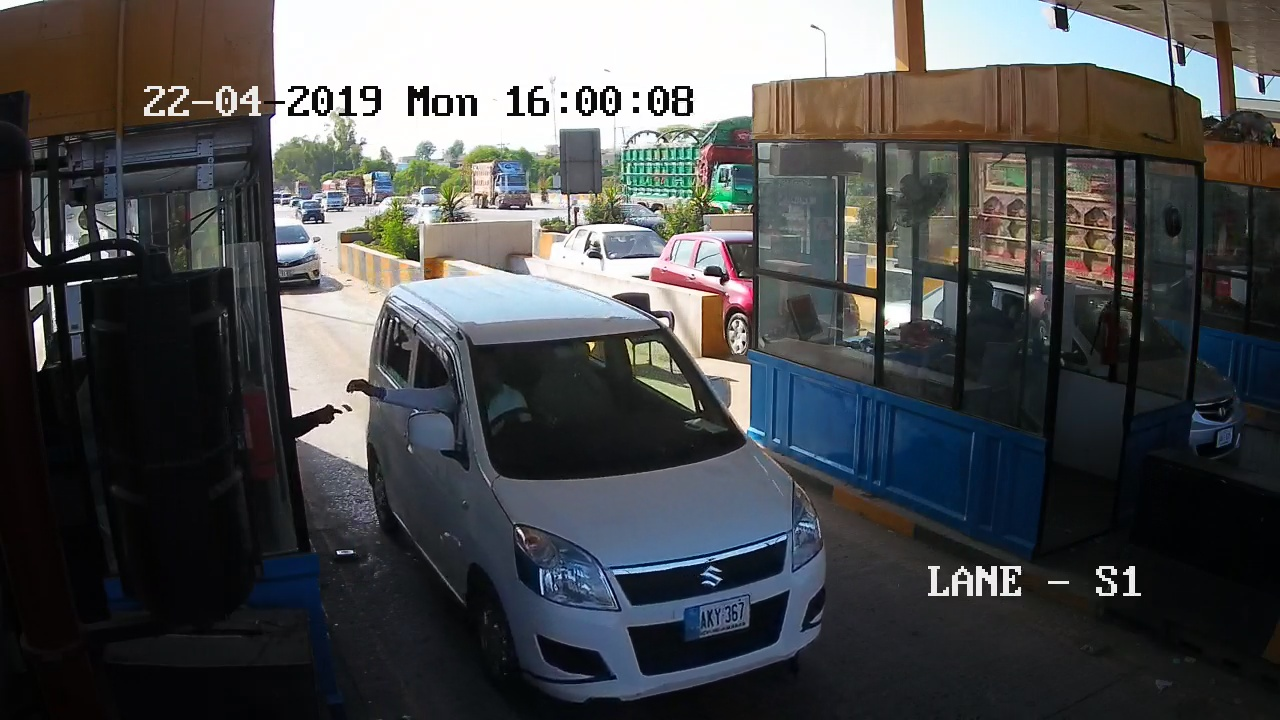Number Plate (Car): (682, 599, 751, 637)
